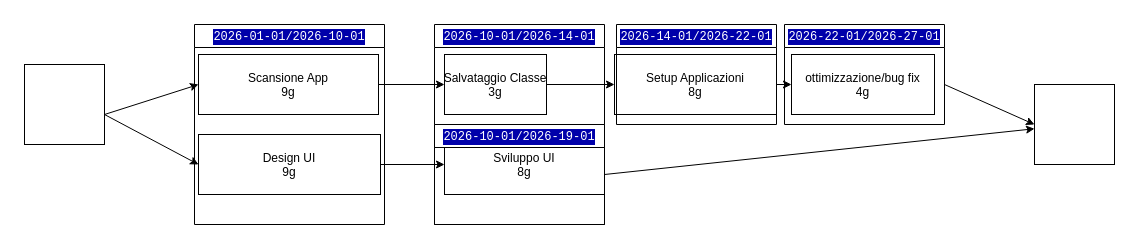
The diagram is 1132 pixels wide and 242 high, and some of its shapes have lost their labels. Here are the shapes that lost their labels. From the top down, the centre of each, then its label:
At point (64, 104): "INIZI DEL PROGETTO".
At point (1074, 124): "FINE".
